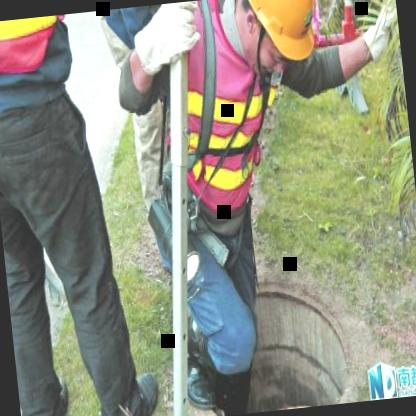helmet: (216, 0, 334, 79)
